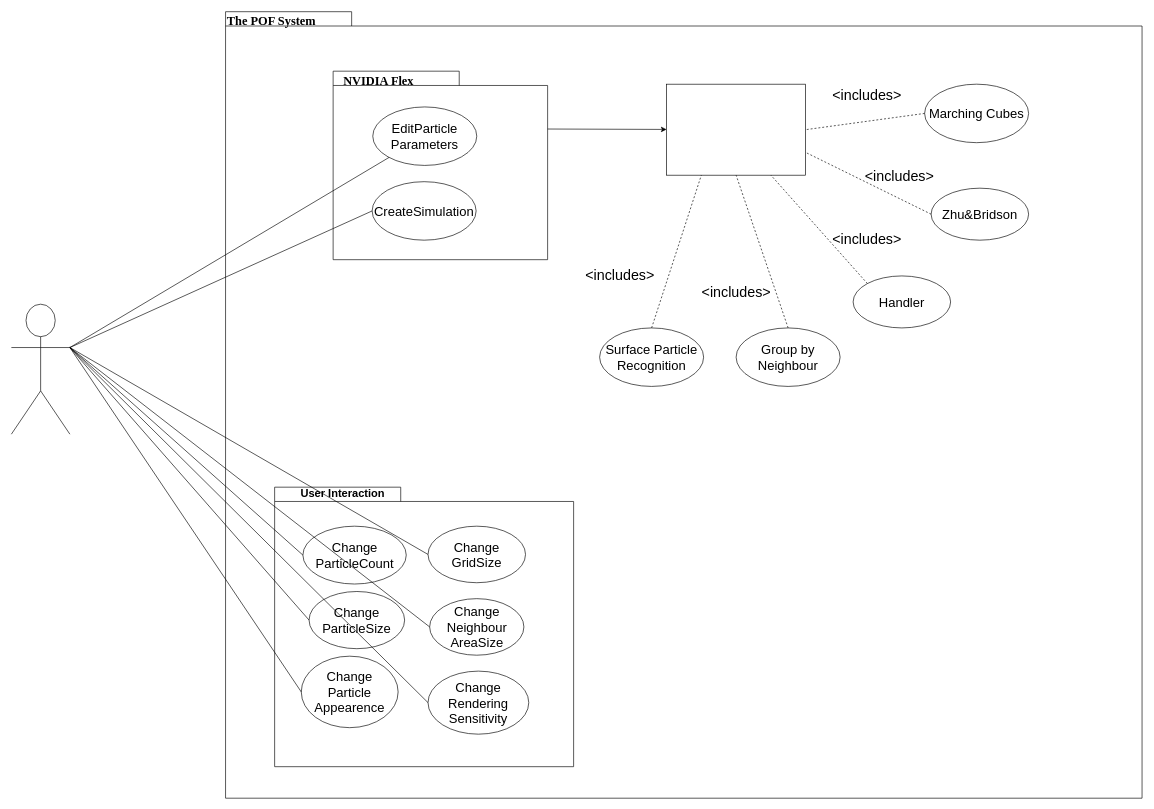
Some shapes in this 1154 by 809 pixel diagram are drawn without their labels. The centre of each missing label's shape, as x and y in pixels:
"Particle Surface Reconstructor" goes at [736,129].
"User" goes at [40,369].
